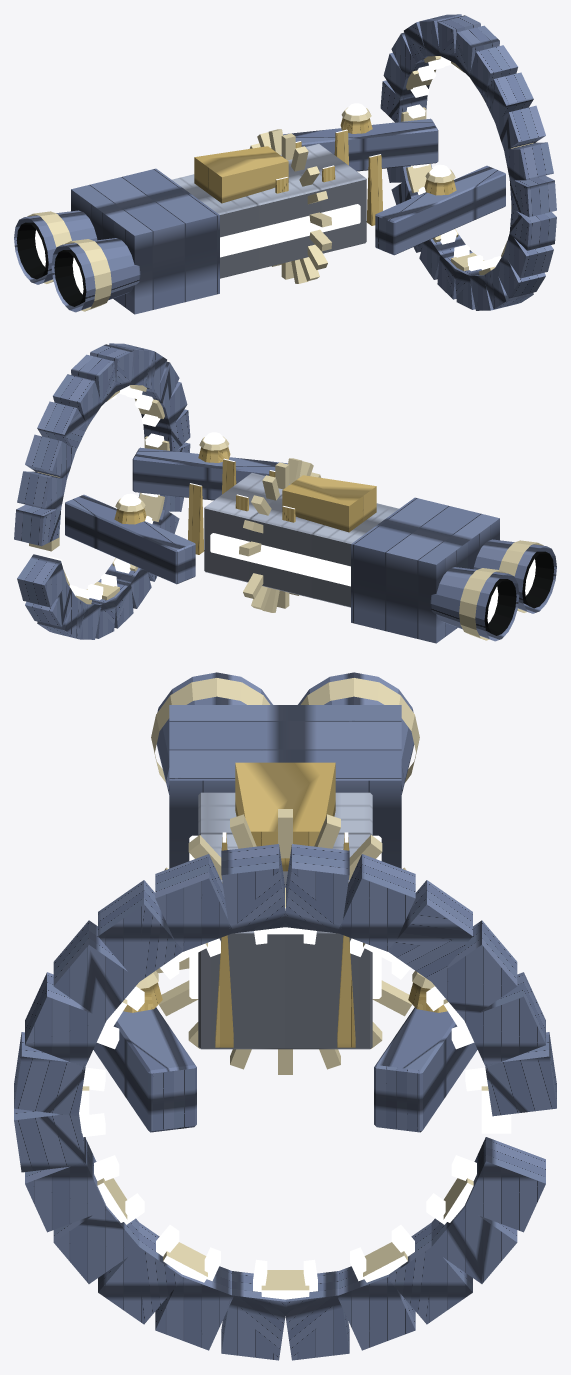
File: world_breaker.glb
The picture shows the model from 3 angles, top to bottom: view 1: azimuth 30°, elevation 25°; view 2: azimuth 150°, elevation 25°; view 3: azimuth 270°, elevation 25°; orthographic projection. The views are drawn at different scales.
Parts seen in each view (by area): view 1: hull_body, weapon_ring, engine_block, sensor_tower, shield_pylons; view 2: hull_body, weapon_ring, engine_block, sensor_tower, shield_pylons; view 3: weapon_ring, hull_body, engine_block, sensor_tower, shield_pylons.
Boxes of the visible parts, x1=… form: hull_body: x1=172, y1=118, x2=505, y2=283; weapon_ring: x1=380, y1=14, x2=556, y2=310; engine_block: x1=14, y1=168, x2=219, y2=314; sensor_tower: x1=194, y1=146, x2=288, y2=203; shield_pylons: x1=340, y1=103, x2=456, y2=195; hull_body: x1=65, y1=447, x2=398, y2=612; weapon_ring: x1=14, y1=343, x2=190, y2=639; engine_block: x1=351, y1=497, x2=556, y2=643; sensor_tower: x1=282, y1=475, x2=376, y2=532; shield_pylons: x1=114, y1=432, x2=230, y2=524; weapon_ring: x1=14, y1=844, x2=556, y2=1360; hull_body: x1=93, y1=792, x2=477, y2=1132; engine_block: x1=151, y1=672, x2=419, y2=868; sensor_tower: x1=235, y1=762, x2=335, y2=871; shield_pylons: x1=123, y1=970, x2=447, y2=1012.
Bounding box in the file's own units: 110 × 65.61 × 65.61.
Materials: 1 (1 with a texture image).
